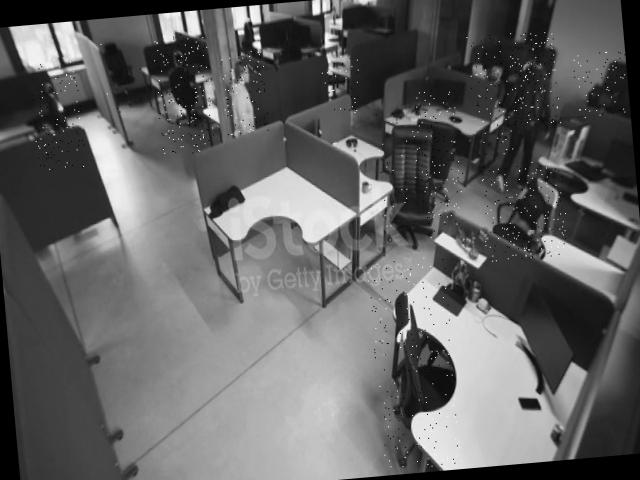empty chair: (366, 255, 462, 472), (478, 159, 569, 262), (374, 109, 437, 242), (412, 87, 468, 227), (28, 55, 86, 172), (98, 32, 145, 117), (320, 54, 362, 118)
occupiedchair: (152, 31, 216, 156), (466, 31, 515, 156), (571, 51, 630, 118)
